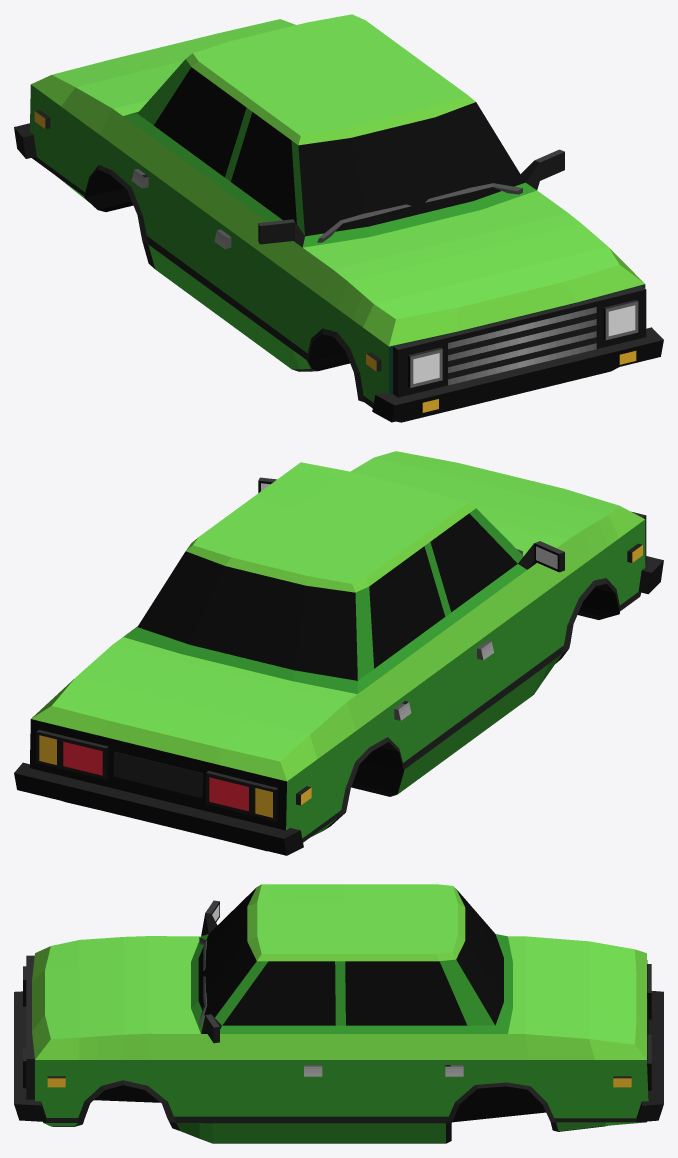
The model's file is SedanGreen.fbx.
3 views of the same model, one above another, from view 1: azimuth 30°, elevation 25°; view 2: azimuth 150°, elevation 25°; view 3: azimuth 270°, elevation 25° (orthographic). The views are drawn at different scales.
Visible parts, largest first — view 1: SedanGreen; view 2: SedanGreen; view 3: SedanGreen.
Boxes of the visible parts, x1,y1,x2,y2 form: SedanGreen: (14,14,663,422); SedanGreen: (14,451,663,855); SedanGreen: (14,884,663,1143).
Bounding box in the file's own units: 1.75 × 1.14 × 3.78.
